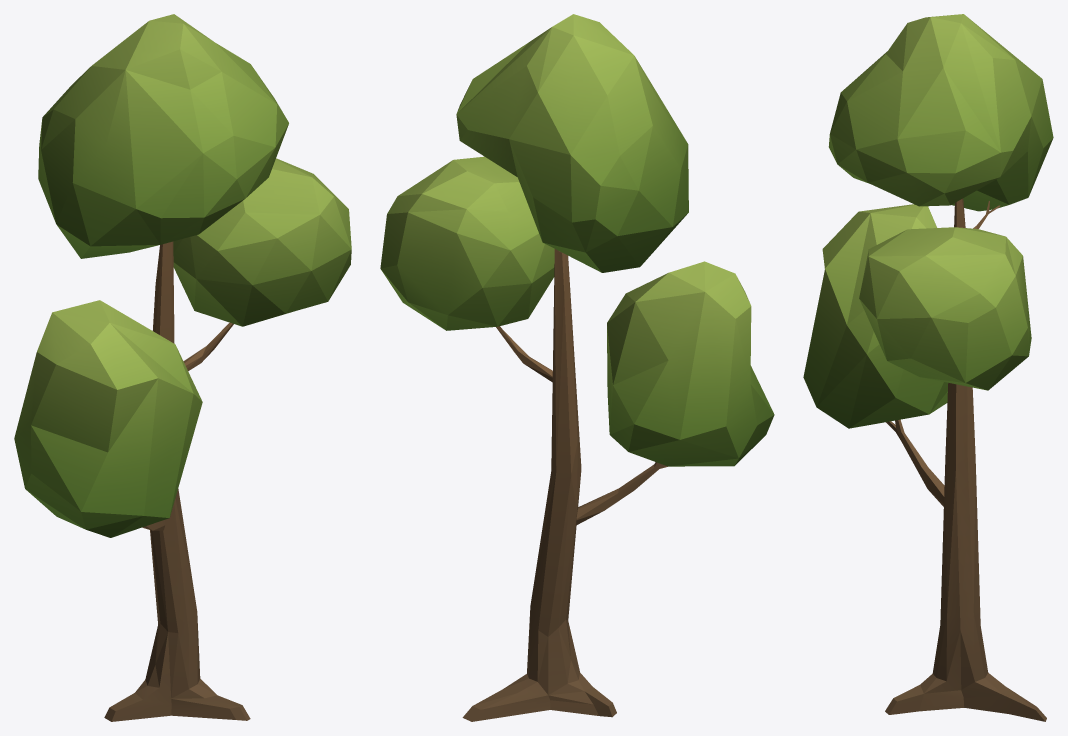
File: Spring_Tree_12.glb
3 renders of one model, left to right at view 1: azimuth 30°, elevation 25°; view 2: azimuth 150°, elevation 25°; view 3: azimuth 270°, elevation 25°, orthographic. The views are drawn at different scales.
Visible parts, largest first — view 1: Spring_Tree_12_LOD0; view 2: Spring_Tree_12_LOD0; view 3: Spring_Tree_12_LOD0.
Boxes of the visible parts, x1,y1,x2,y2 form: Spring_Tree_12_LOD0: [14, 14, 351, 721]; Spring_Tree_12_LOD0: [380, 14, 774, 721]; Spring_Tree_12_LOD0: [803, 14, 1053, 721].
Size of what is drawn, in the model's own units: 4.57 by 8.84 by 2.95.
1 material, 1 textured.
